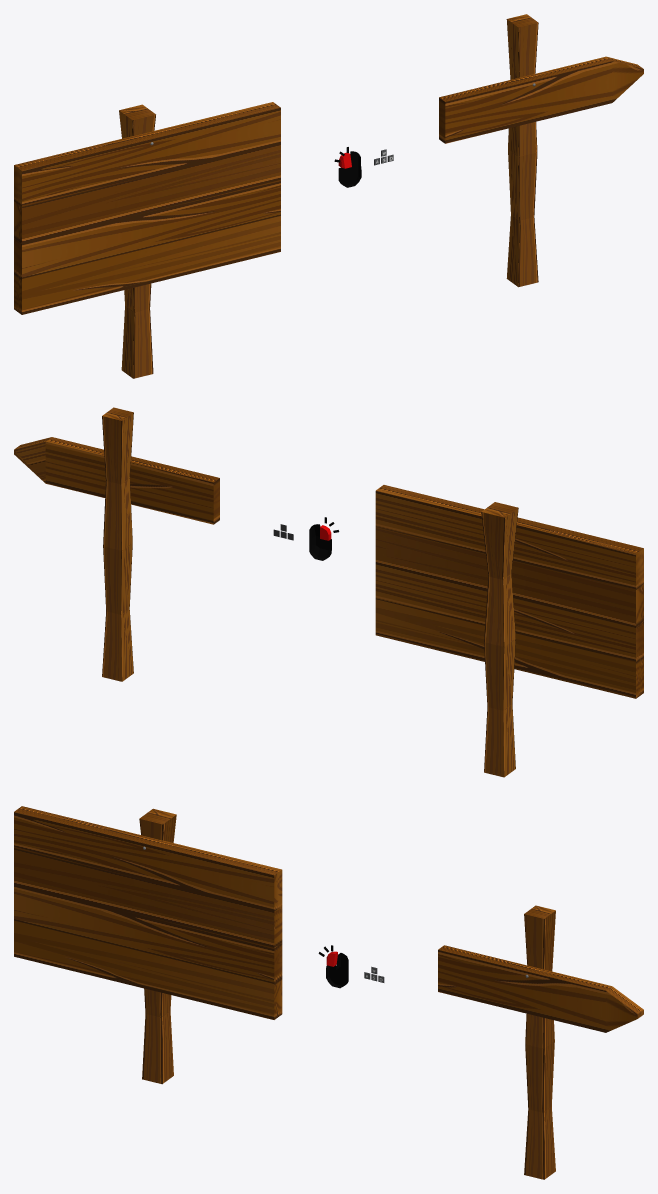
The model's file is placas.fbx.
3 views of the same model, one above another, from view 1: azimuth 30°, elevation 25°; view 2: azimuth 150°, elevation 25°; view 3: azimuth 330°, elevation 25° (orthographic).
Parts seen in each view (by area): view 1: Cube.001, Cube.003, Cube.002, Cube, mouse; view 2: Cube.001, Cube.003, Cube, Cube.002, mouse; view 3: Cube.001, Cube.003, Cube.002, Cube, mouse.
Boxes of the visible parts, x1=… form: Cube.001: x1=14, y1=102, x2=280, y2=314; Cube.003: x1=439, y1=56, x2=643, y2=143; Cube.002: x1=506, y1=14, x2=538, y2=287; Cube: x1=119, y1=104, x2=155, y2=378; mouse: x1=334, y1=147, x2=361, y2=187; Cube.001: x1=375, y1=485, x2=643, y2=698; Cube.003: x1=14, y1=437, x2=219, y2=524; Cube: x1=481, y1=502, x2=518, y2=777; Cube.002: x1=102, y1=407, x2=133, y2=681; mouse: x1=309, y1=517, x2=339, y2=560; Cube.001: x1=14, y1=806, x2=282, y2=1019; Cube.003: x1=438, y1=945, x2=643, y2=1032; Cube.002: x1=524, y1=905, x2=555, y2=1179; Cube: x1=139, y1=808, x2=176, y2=1084; mouse: x1=318, y1=945, x2=348, y2=988.
Bounding box in the file's own units: 1659 × 663 × 126.
